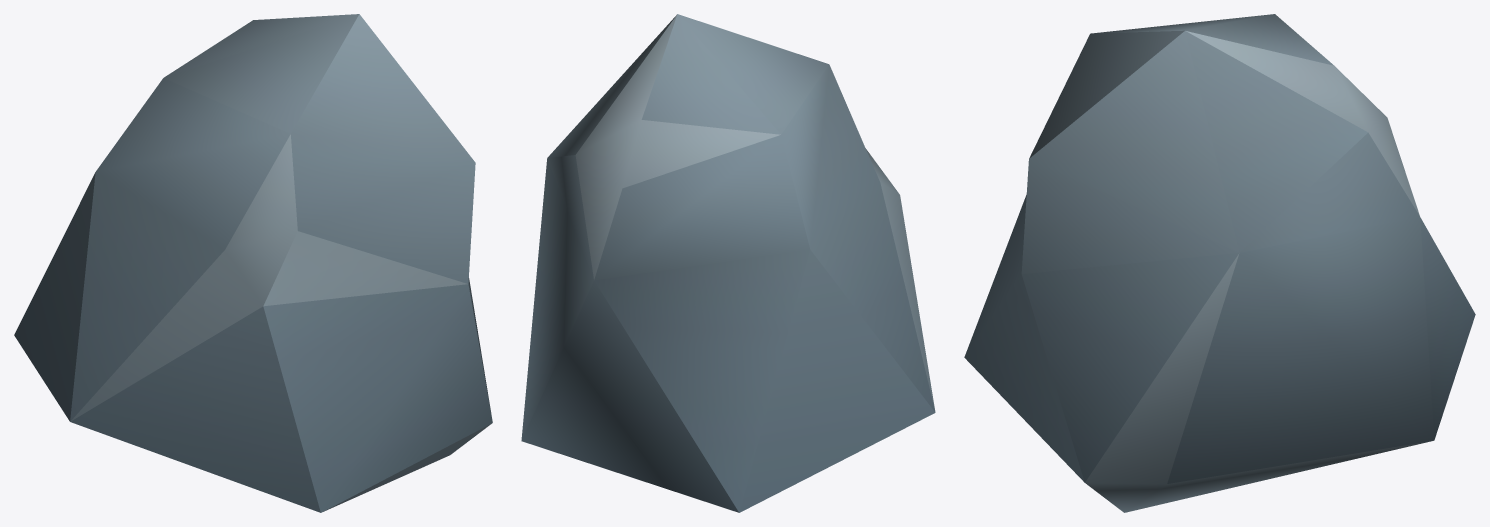
File: iron_nugget_medium.glb
3 renders of one model, left to right at view 1: azimuth 30°, elevation 25°; view 2: azimuth 150°, elevation 25°; view 3: azimuth 270°, elevation 25°, orthographic. The views are drawn at different scales.
Visible parts, largest first — view 1: Iron_Nugget_Medium; view 2: Iron_Nugget_Medium; view 3: Iron_Nugget_Medium.
Boxes of the visible parts, bbox=[...] form: Iron_Nugget_Medium: bbox=[14, 14, 492, 512]; Iron_Nugget_Medium: bbox=[521, 14, 935, 512]; Iron_Nugget_Medium: bbox=[964, 14, 1475, 512].
Bounding box in the file's own units: 0.1553 × 0.1669 × 0.1692.
1 material, 1 textured.
